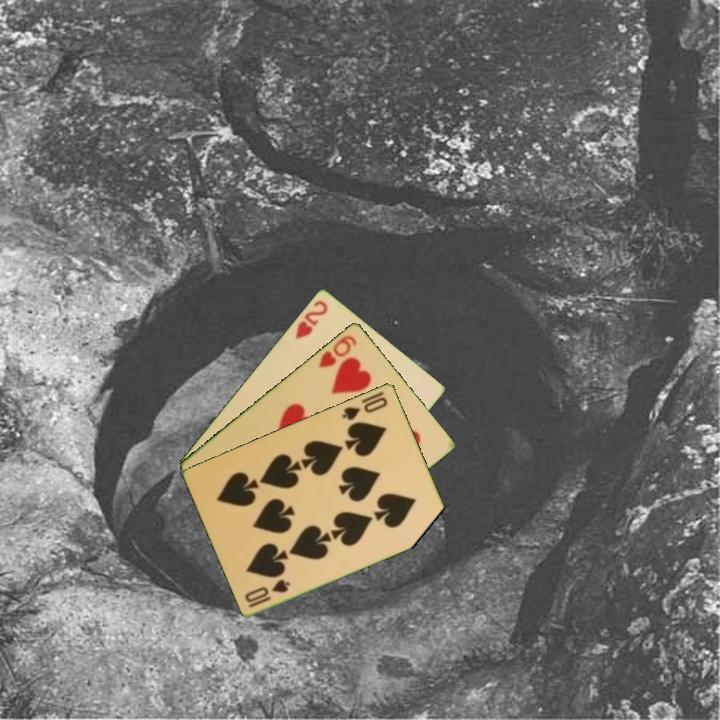10s: (241, 575, 293, 610), (338, 393, 391, 423)
2h: (292, 296, 331, 342)
6h: (315, 331, 360, 370)
